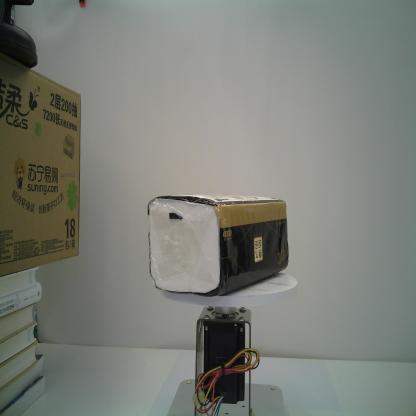Tissue: (146, 193, 289, 297)
